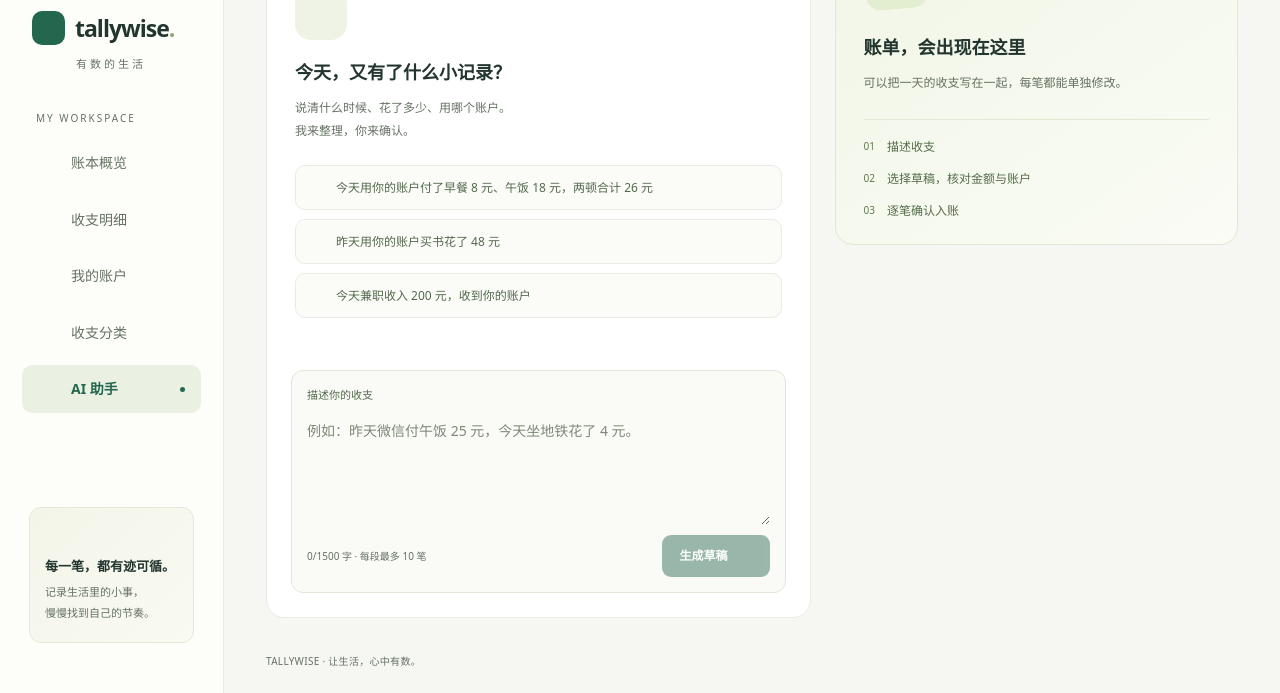
Test: AI 助手路由与入账流程 › 会话存储不可写时不发送入账请求
The width and height of the screenshot is (1280, 693).
(page scrolled)
In the text box labelled "描述你的收支": (538, 468) [307,411,770,526], type "今天午饭 25 元，用现金"
(page scrolled)
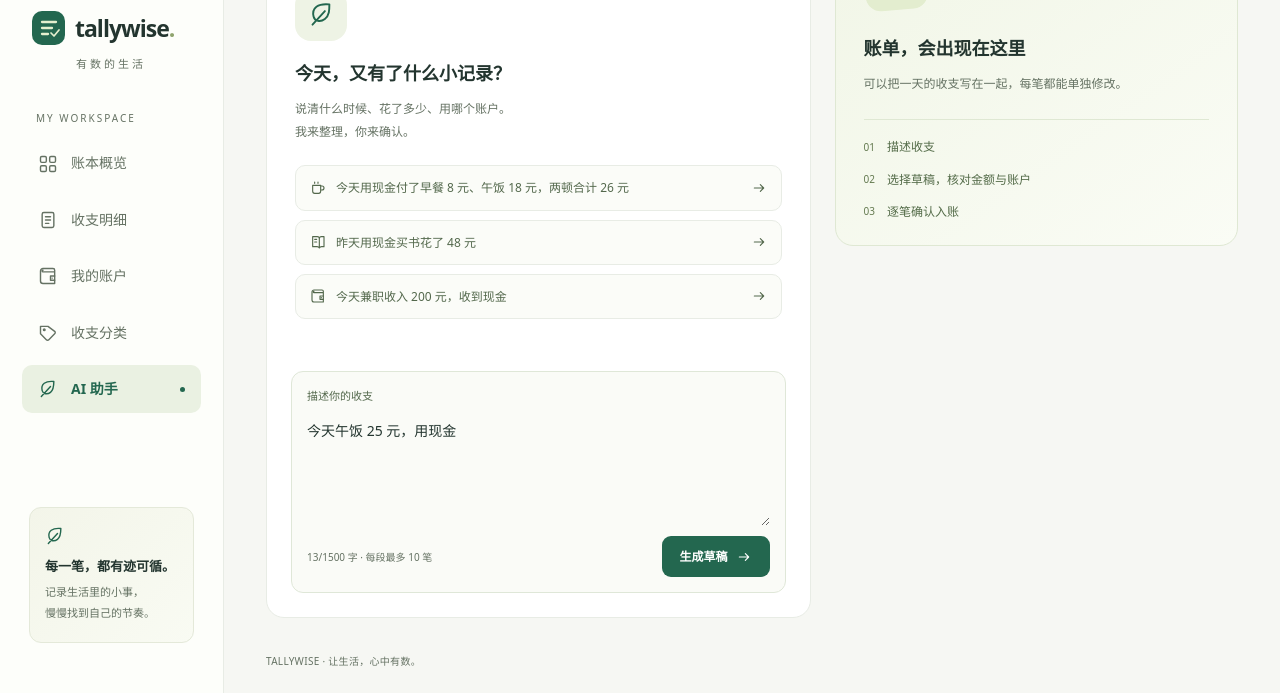
expect the button "生成草稿" is enabled: met
Click the button "生成草稿": (716, 557) [662,536,770,577]
(page scrolled)
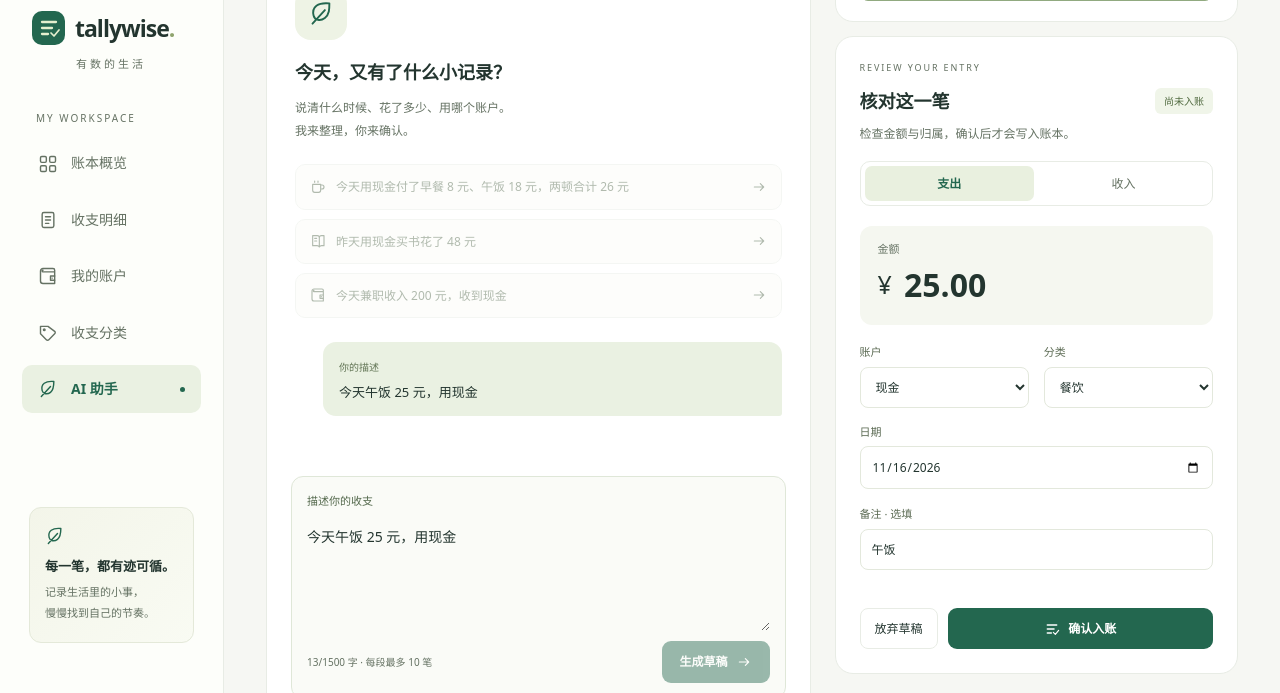
Click the button "确认入账": (1080, 629) [948,608,1213,649]
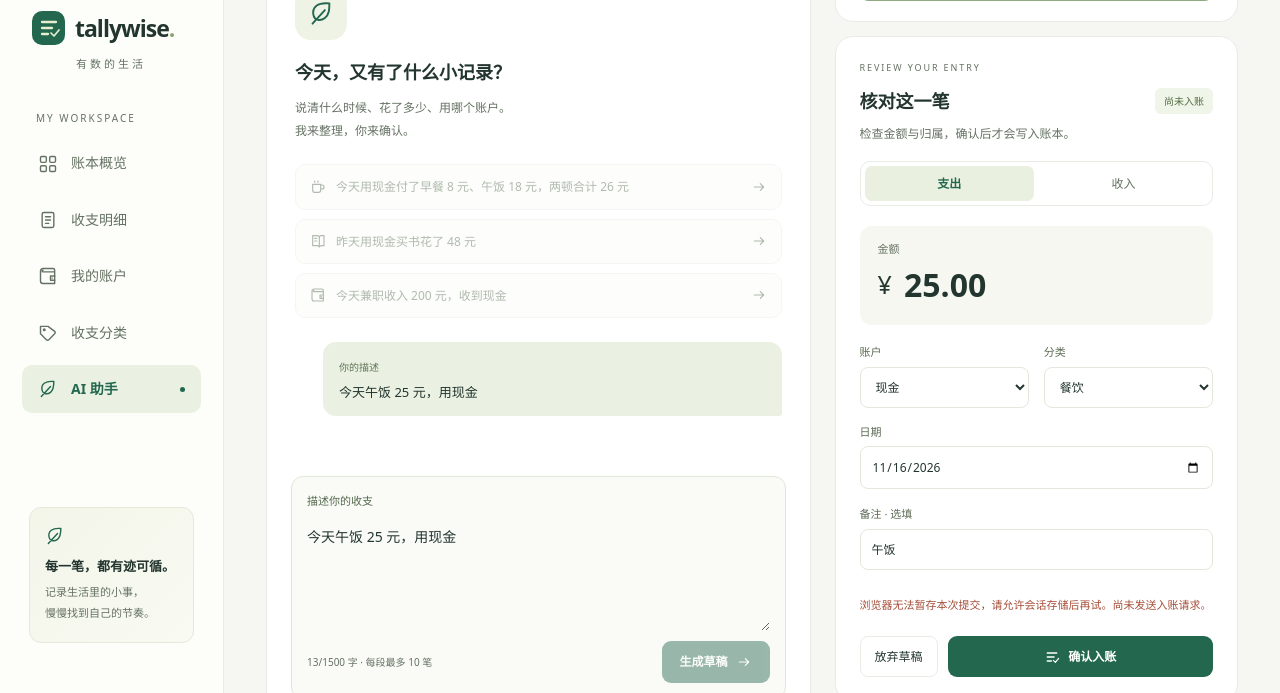
expect the text "浏览器无法暂存本次提交，请允许会话存储后再试。尚未发送入账请求。" is shown: met, box [860,596,1213,614]
